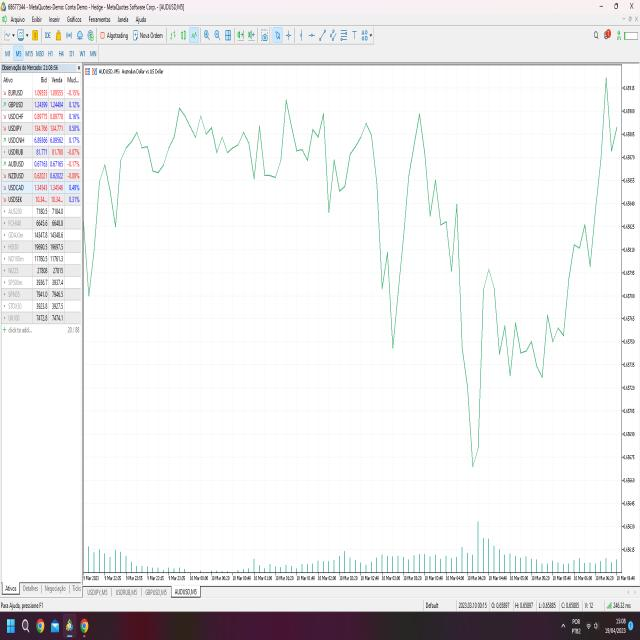fundo_duplo: (369, 170, 413, 359)
